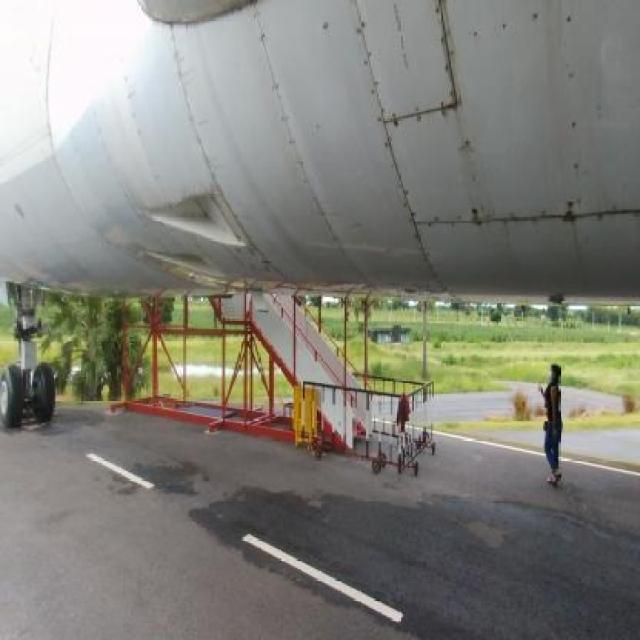Missing-Rivet: (354, 22, 411, 218), (566, 11, 591, 204), (468, 16, 595, 44)
Rust: (467, 199, 640, 286), (447, 105, 493, 226), (429, 7, 468, 122)
